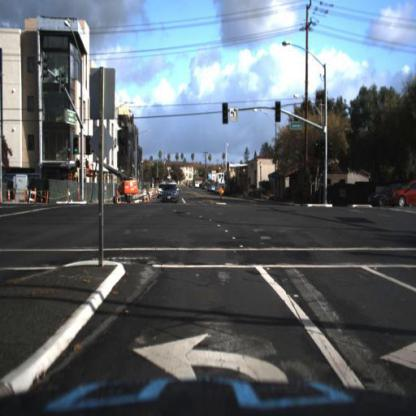car: (366, 189, 396, 211), (369, 188, 398, 206), (160, 185, 178, 203), (158, 184, 167, 203), (195, 179, 203, 194)
trafficLight-GreenLeft: (221, 99, 231, 126), (74, 138, 81, 157)
trafficLight-Red: (273, 101, 281, 128), (320, 135, 328, 158), (223, 104, 229, 126)
